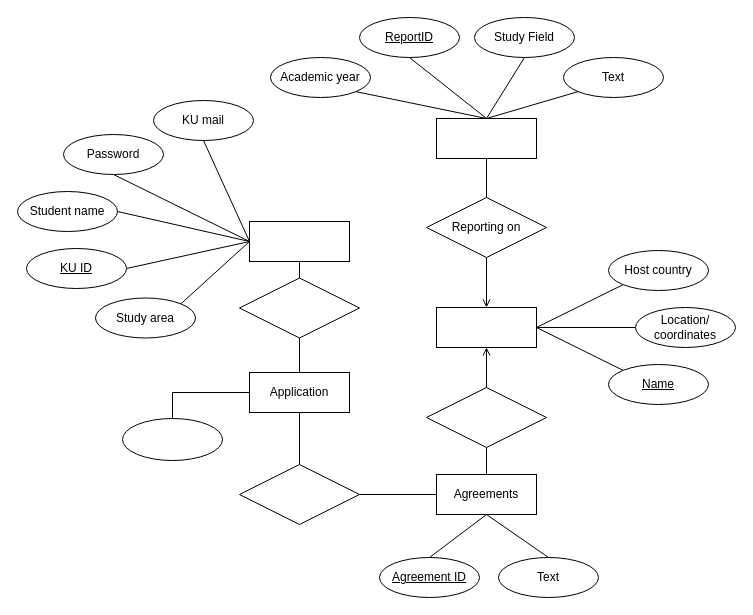
The diagram is 753 pixels wide and 615 high, and some of its shapes have lost their labels. Each missing label, with the centre of its shape:
"Application ID" goes at pixel 172 439.
"Applies" goes at pixel 299 307.
"Between" goes at pixel 486 417.
"Reports" goes at pixel 486 138.
"To" goes at pixel 299 494.
"Universities" goes at pixel 486 327.
"User" goes at pixel 299 241.
